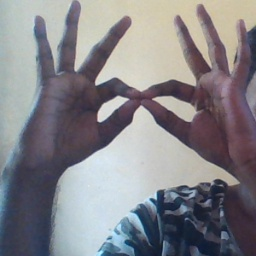B: (89, 54, 215, 155)
